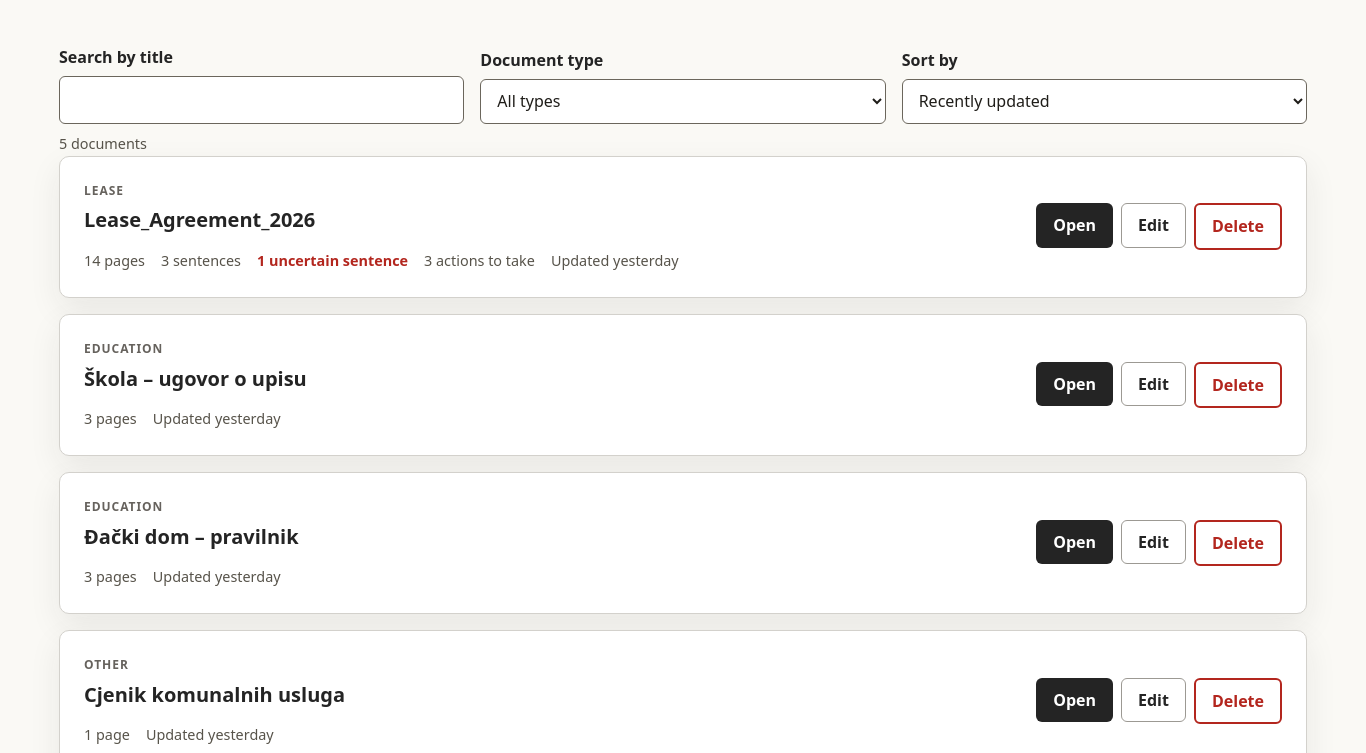
Test: documents list (screens 04 / 06) › delete needs confirmation, then removes and moves focus to the heading
The image size is (1366, 753).
(page scrolled)
Check: the heading "Lease_Agreement_2026" is shown, box [84,206,315,233]
Click the button with aria-label "Delete Škola – ugovor o upisu": (1238, 385) [1194,362,1282,408]
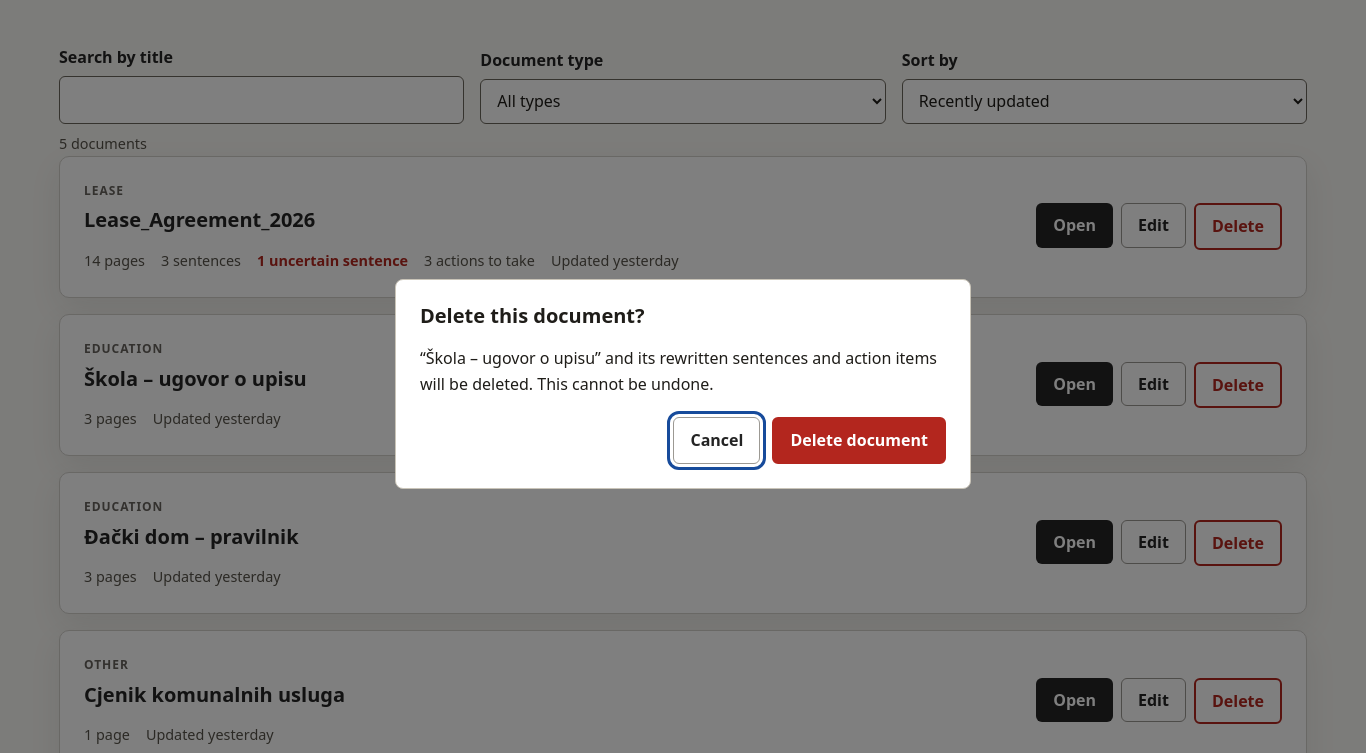
Check: the text "cannot be undone" is shown, box [420,347,937,395]
Click the button "Delete document": (859, 441) [772,418,946,464]
(page scrolled)
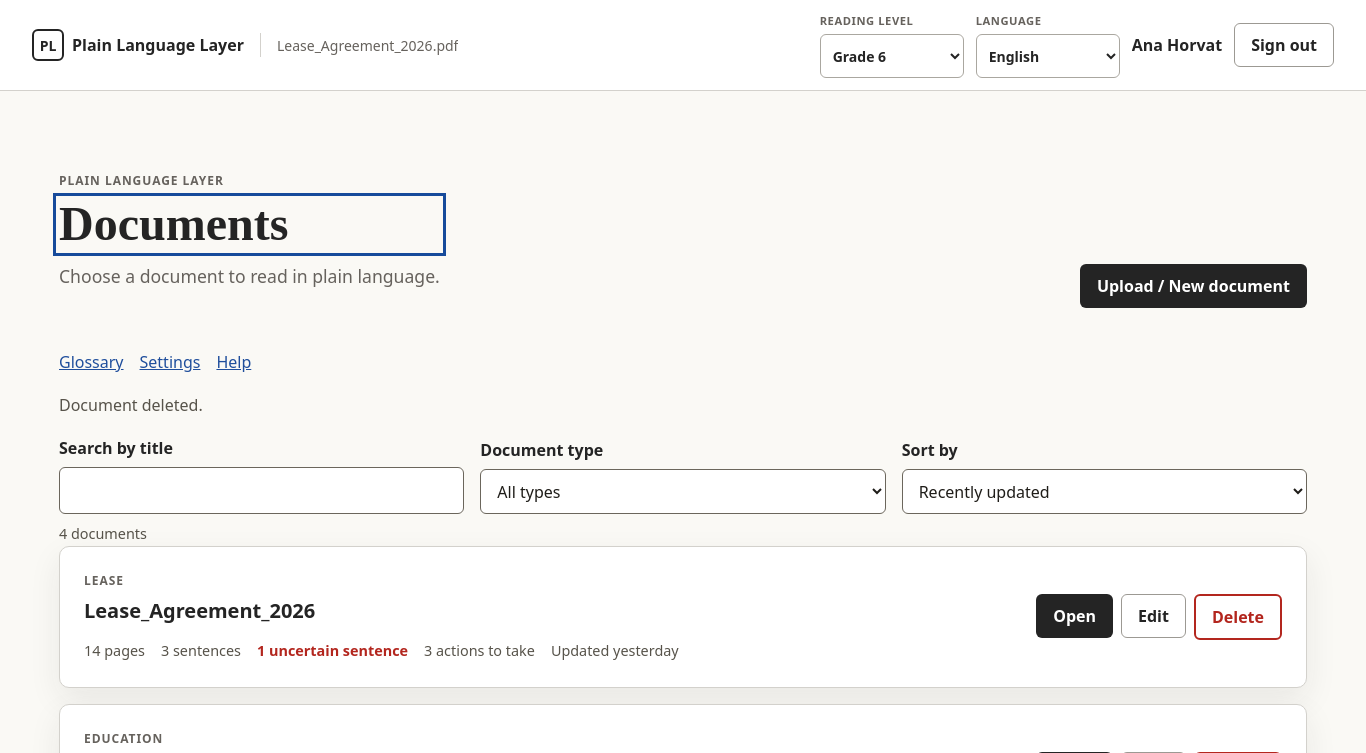
Check: the heading "Škola – ugovor o upisu" is gone
Check: the text "Document deleted." is shown, box [59,394,203,416]
